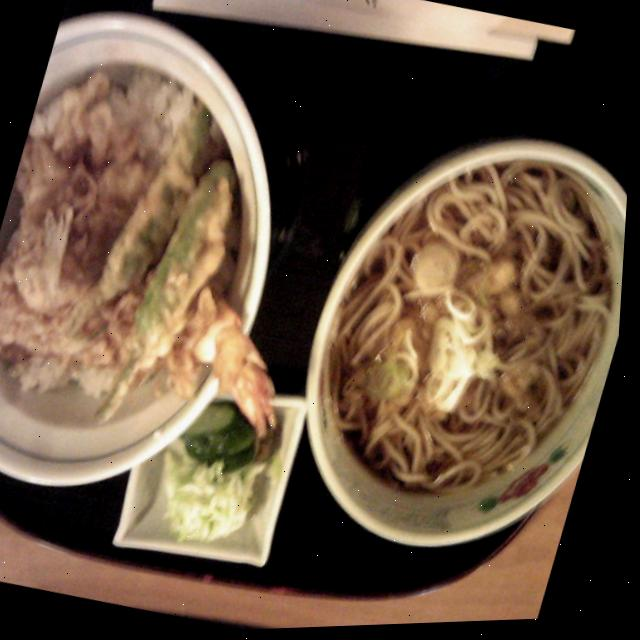熟制海鲜: (17, 0, 483, 420)
蔬菜料理: (0, 200, 173, 478)
